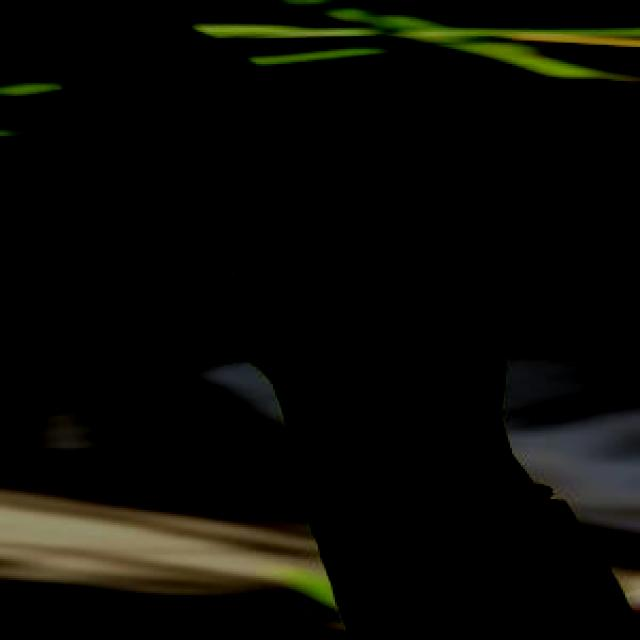Brown_Spot: (346, 431, 422, 516), (356, 189, 437, 250)
